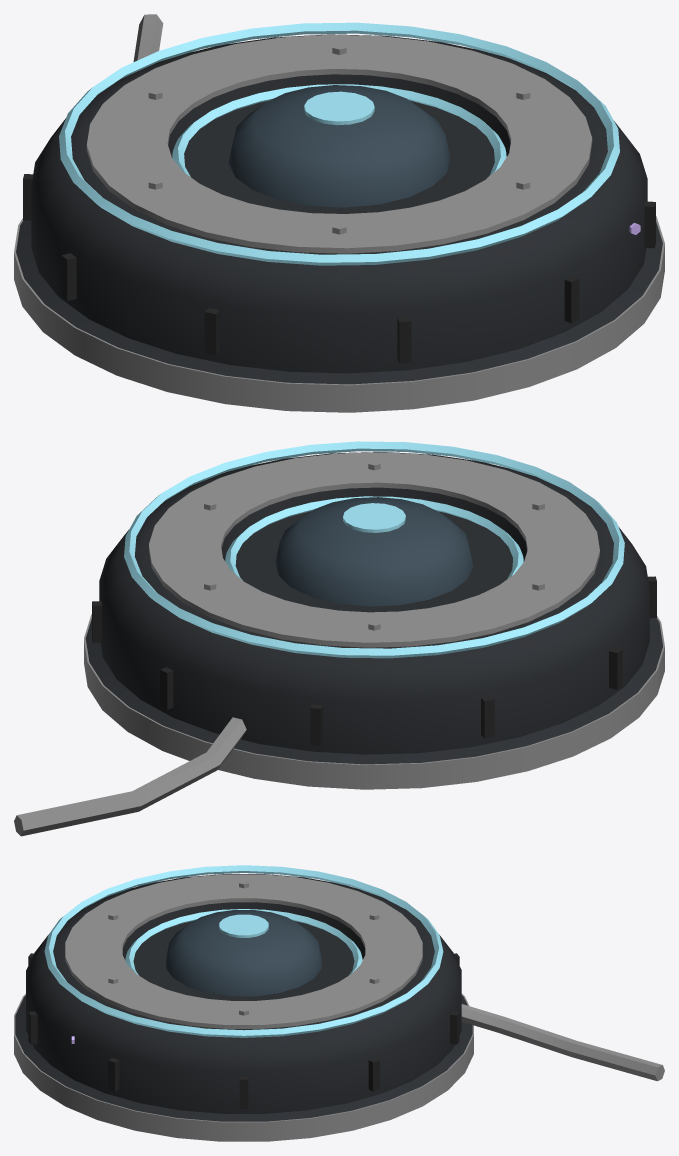
The model's file is Holo_Projector_Base.fbx.
3 renders of one model, top to bottom at view 1: azimuth 30°, elevation 25°; view 2: azimuth 150°, elevation 25°; view 3: azimuth 270°, elevation 25°, orthographic. The views are drawn at different scales.
Visible parts, largest first — view 1: Holo_Projector_Base_LOD0; view 2: Holo_Projector_Base_LOD0; view 3: Holo_Projector_Base_LOD0.
Boxes of the visible parts, box(x1,y1,x2,y2) form: Holo_Projector_Base_LOD0: box(14, 14, 664, 412); Holo_Projector_Base_LOD0: box(14, 441, 664, 836); Holo_Projector_Base_LOD0: box(14, 865, 664, 1141).
Size of what is drawn, in the model's own units: 0.6409 by 0.184 by 0.9071.
